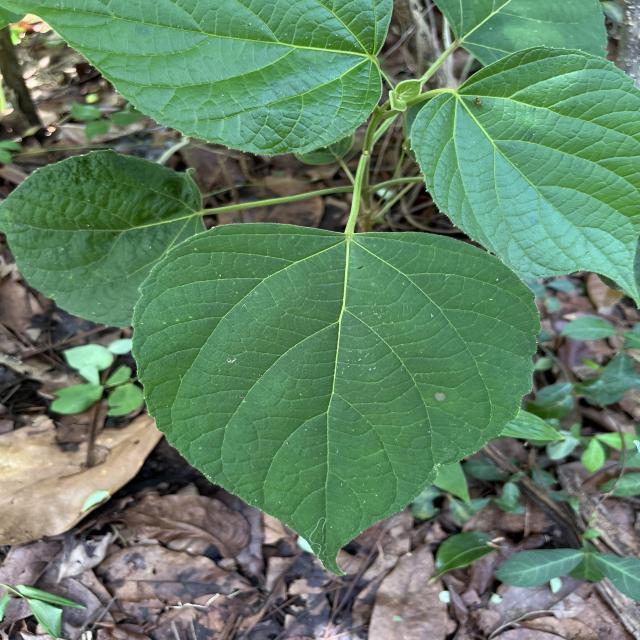Clerodendrum infortunatum: (130, 220, 543, 582)
